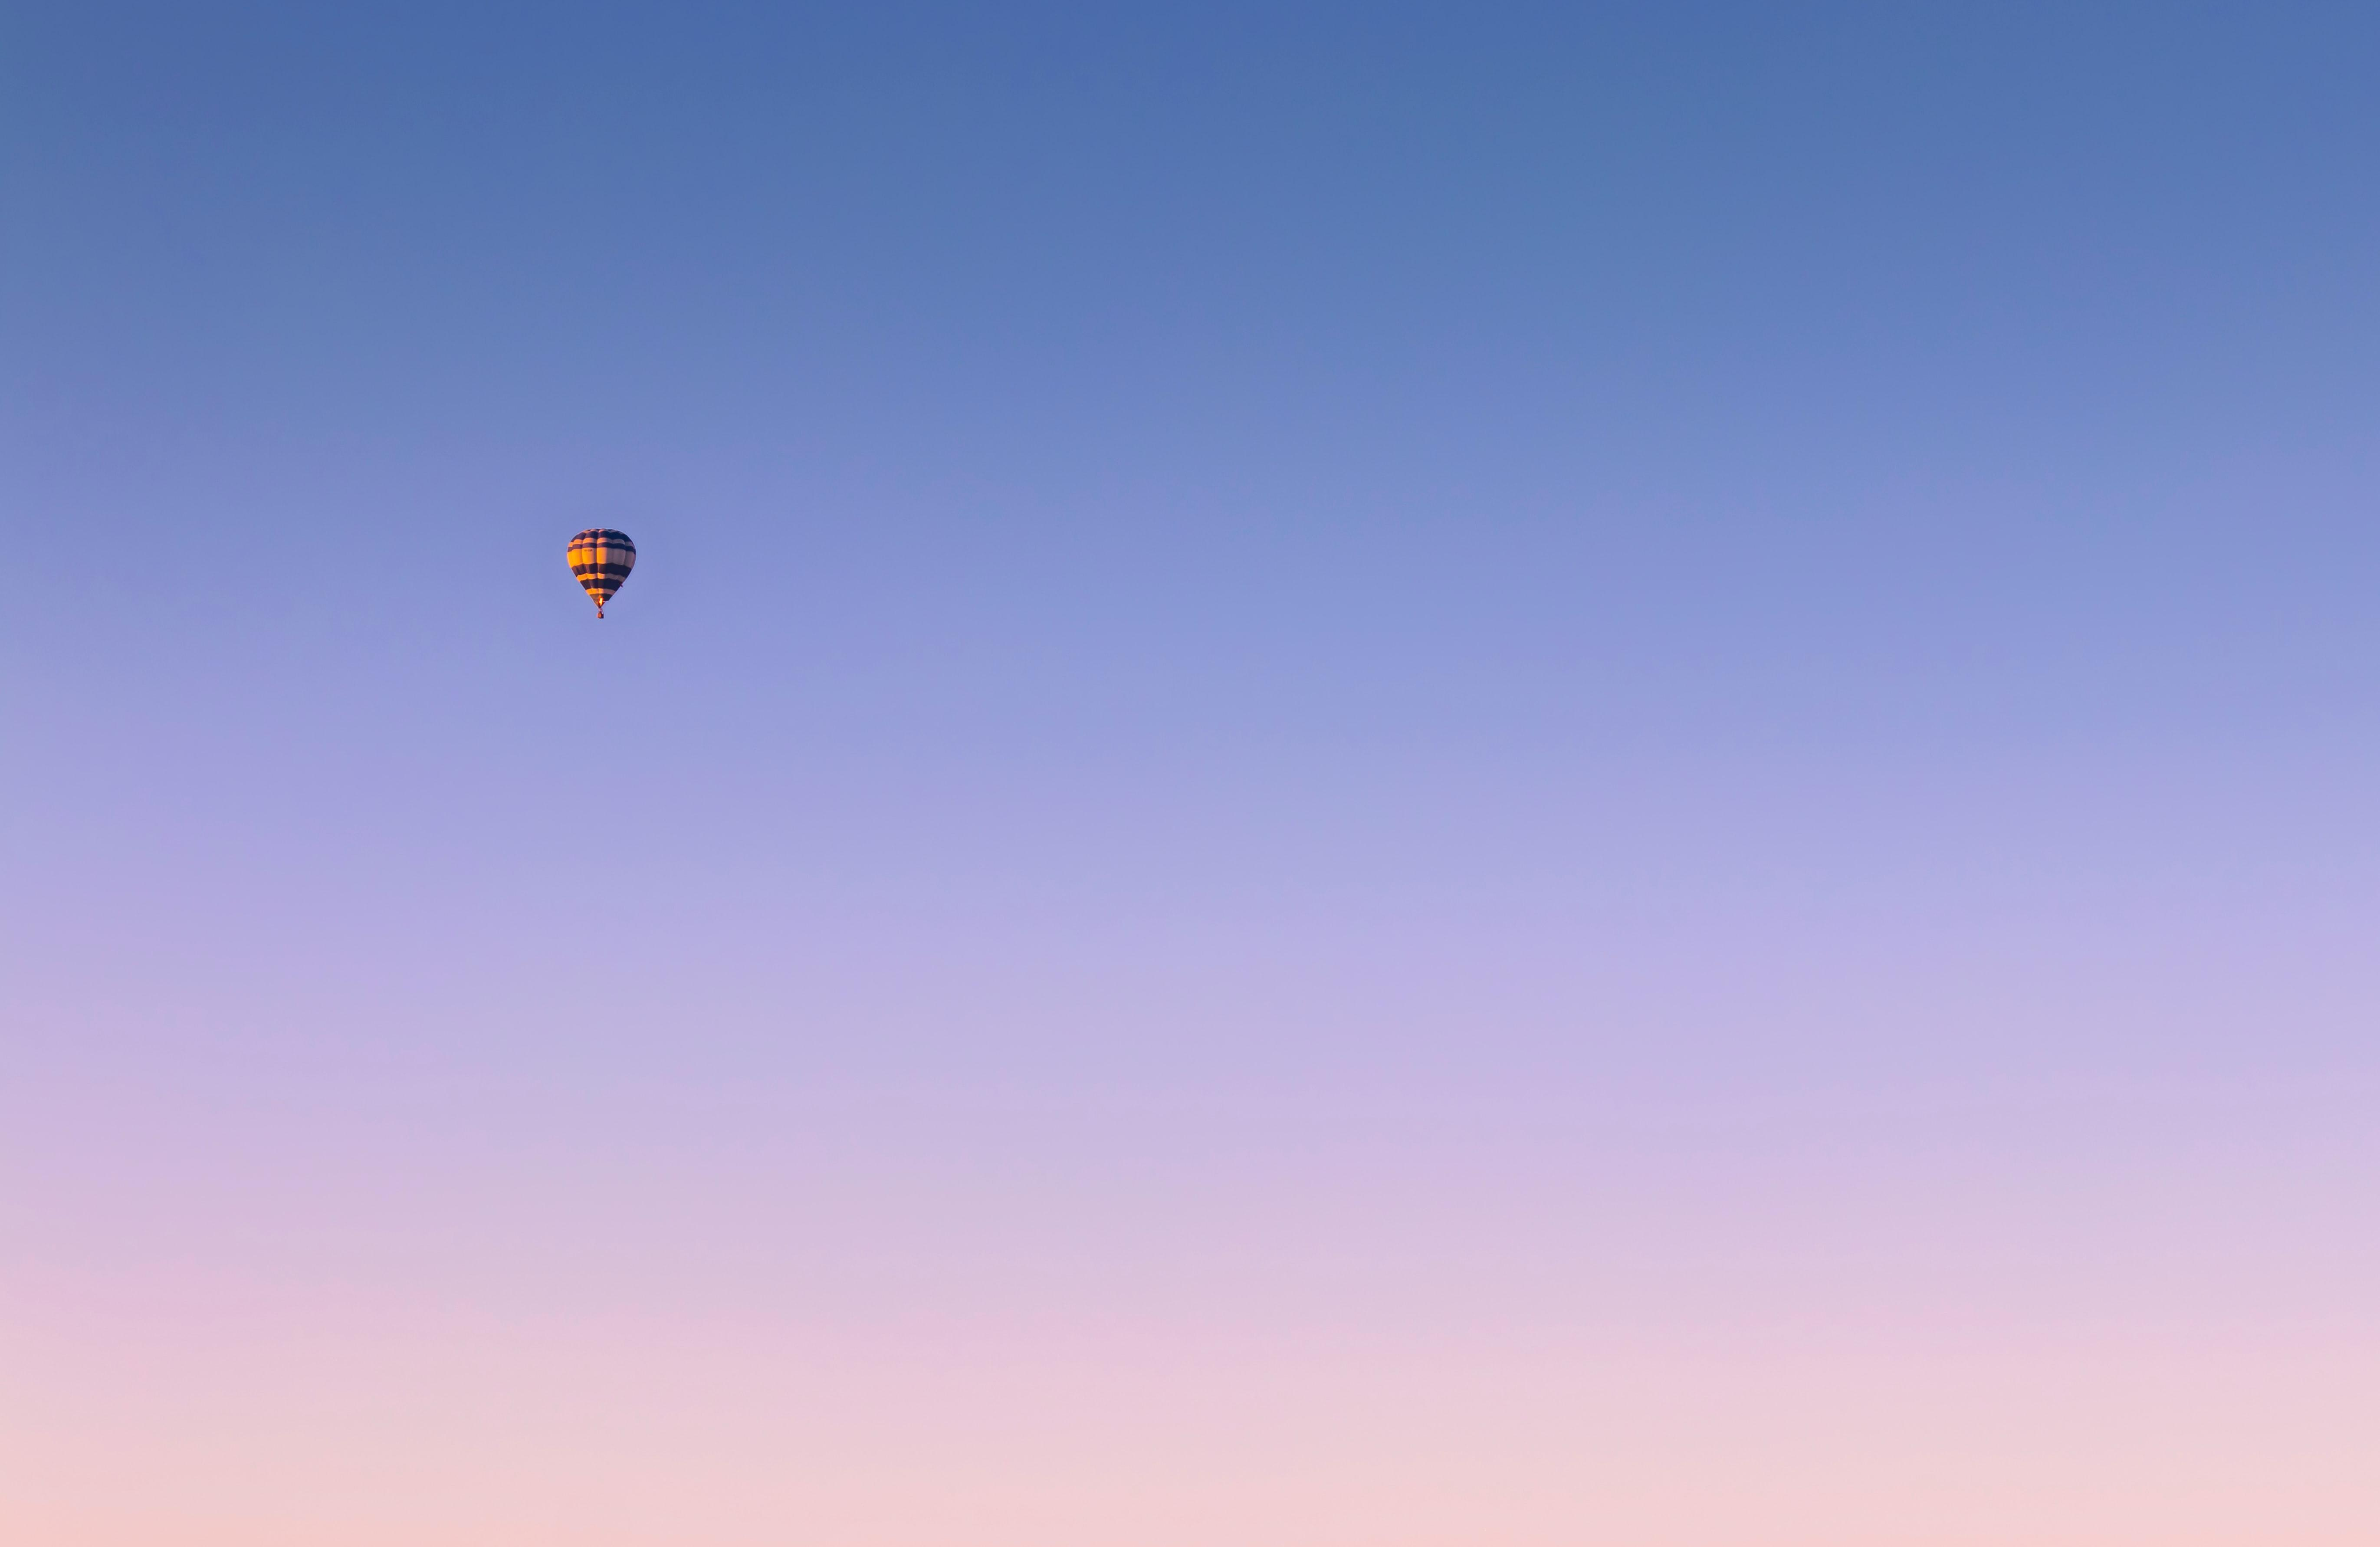hot air ballon: (567, 529, 635, 617)
